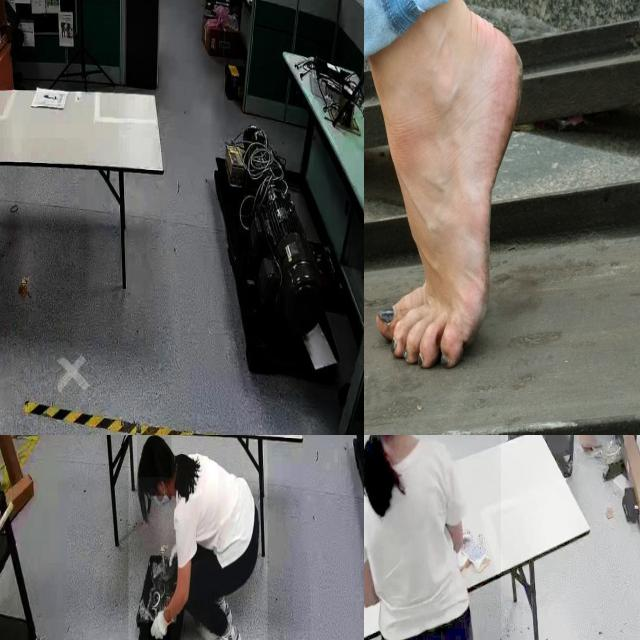Barefoots: (376, 12, 524, 368)
hand_glove: (148, 609, 171, 640)
head_nohelmet: (137, 435, 172, 478)
person: (128, 435, 267, 640), (364, 435, 501, 640)
shoes: (201, 623, 245, 640)
